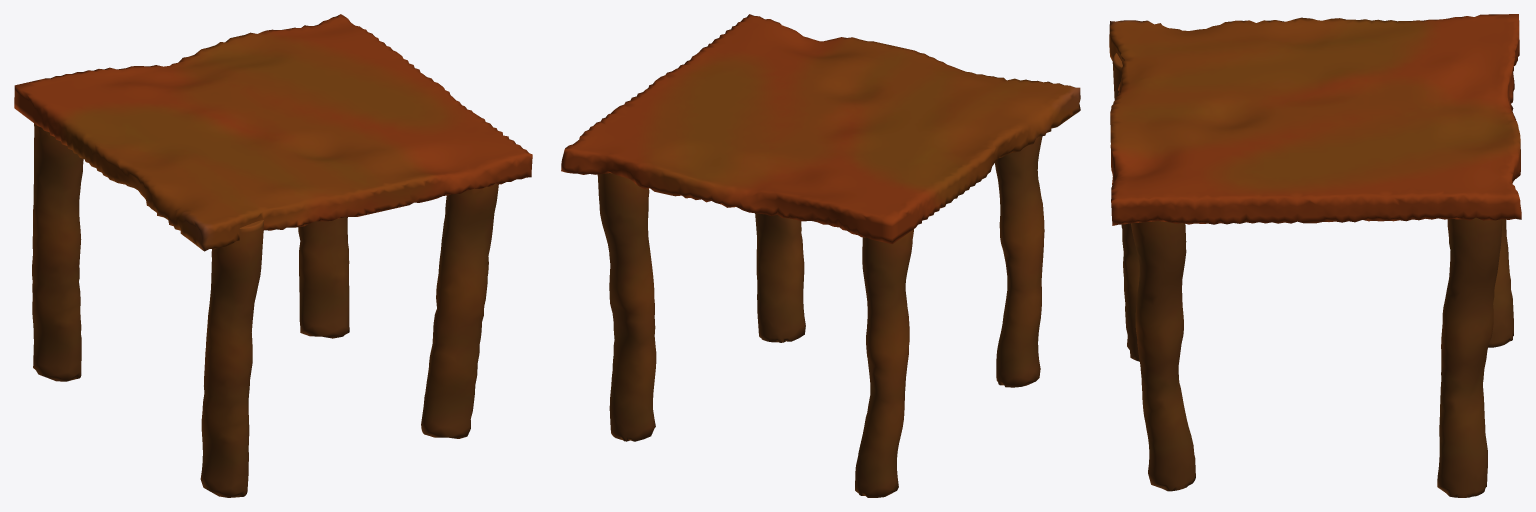
Rendered from table.glb.
The picture shows the model from 3 angles, left to right: view 1: azimuth 30°, elevation 25°; view 2: azimuth 150°, elevation 25°; view 3: azimuth 270°, elevation 25°; orthographic projection. The views are drawn at different scales.
Visible parts, largest first — view 1: Square, Cylinder, Cylinder.0003, Cylinder.0001, Cylinder.0002; view 2: Square, Cylinder.0002, Cylinder.0001, Cylinder, Cylinder.0003; view 3: Square, Cylinder.0002, Cylinder.0003, Cylinder, Cylinder.0001.
Boxes of the visible parts, x1,y1,x2,y2 form: Square: (14,14,532,251); Cylinder: (200,220,264,497); Cylinder.0003: (421,184,498,438); Cylinder.0001: (32,123,83,381); Cylinder.0002: (298,217,349,338); Square: (561,14,1080,244); Cylinder.0002: (597,173,656,441); Cylinder.0001: (855,229,913,497); Cylinder: (995,136,1044,387); Cylinder.0003: (755,213,805,342); Square: (1109,14,1521,225); Cylinder.0002: (1437,217,1502,497); Cylinder.0003: (1131,221,1195,491); Cylinder: (1112,53,1139,361); Cylinder.0001: (1488,219,1513,347).
Bounding box in the file's own units: 1.96 × 1.7 × 1.96.
